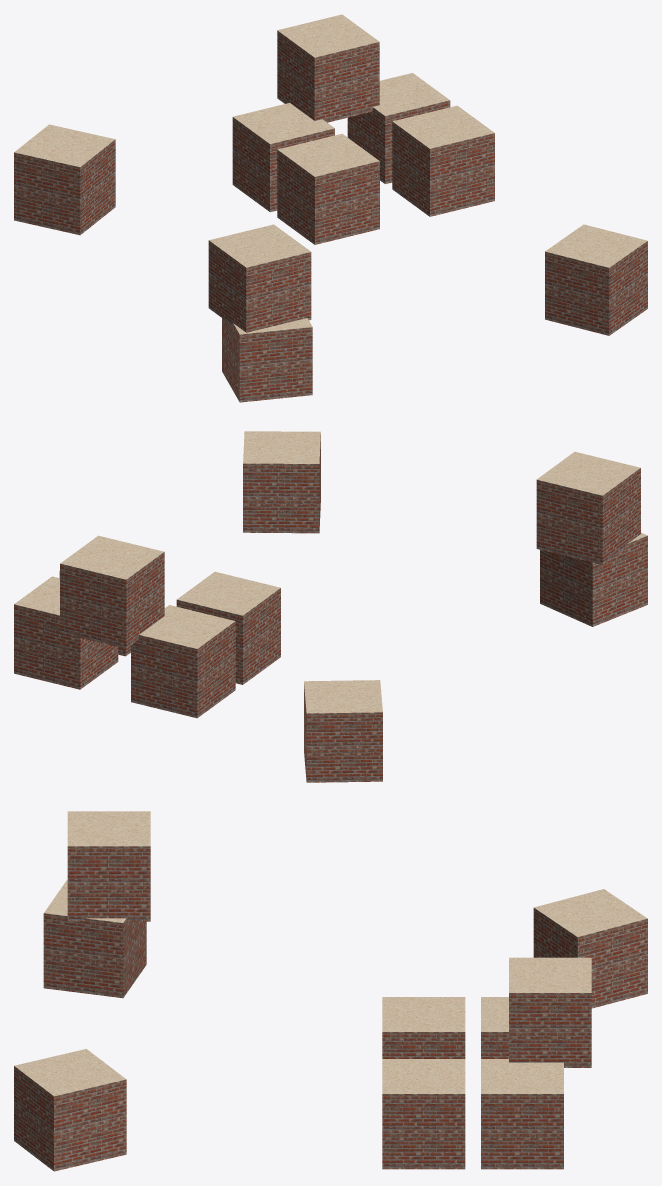
File: world-with-lights.glb
3 renders of one model, top to bottom at view 1: azimuth 30°, elevation 25°; view 2: azimuth 150°, elevation 25°; view 3: azimuth 270°, elevation 25°, orthographic. The views are drawn at different scales.
Parts seen in each view (by area): view 1: Plane.003, Plane.002, Plane.006, Plane.004, Plane.010, Plane.009, Plane.005, Plane.008, Plane.007; view 2: Plane.010, Plane.009, Plane.008, Plane.004, Plane.006, Plane.005, Plane.007, Plane.002; view 3: Plane.006, Plane.003, Plane.010, Plane.004, Plane.007, Plane.009, Plane.005, Plane.002, Plane.008.
Part boxes in pixels (left/top/right/bottom): Plane.003: left=392, top=105, right=494, bottom=216; Plane.002: left=277, top=133, right=379, bottom=244; Plane.006: left=545, top=224, right=647, bottom=335; Plane.004: left=14, top=124, right=115, bottom=235; Plane.010: left=208, top=224, right=311, bottom=332; Plane.009: left=277, top=14, right=379, bottom=122; Plane.005: left=222, top=318, right=312, bottom=402; Plane.008: left=232, top=103, right=334, bottom=212; Plane.007: left=347, top=73, right=450, bottom=183; Plane.010: left=536, top=451, right=640, bottom=564; Plane.009: left=60, top=535, right=164, bottom=648; Plane.008: left=131, top=605, right=235, bottom=718; Plane.004: left=304, top=680, right=382, bottom=782; Plane.006: left=243, top=431, right=320, bottom=533; Plane.005: left=540, top=532, right=647, bottom=626; Plane.007: left=14, top=576, right=118, bottom=689; Plane.002: left=176, top=571, right=280, bottom=684; Plane.006: left=14, top=1049, right=126, bottom=1171; Plane.003: left=382, top=1059, right=465, bottom=1169; Plane.010: left=67, top=811, right=150, bottom=921; Plane.004: left=533, top=889, right=647, bottom=1008; Plane.007: left=481, top=1059, right=563, bottom=1169; Plane.009: left=509, top=957, right=591, bottom=1067; Plane.005: left=43, top=879, right=146, bottom=998; Plane.002: left=382, top=997, right=465, bottom=1058; Plane.008: left=481, top=997, right=508, bottom=1058.
Size of what is drawn, in the model's own units: 30.93 by 9.78 by 38.23.
2 materials, 2 textured.
